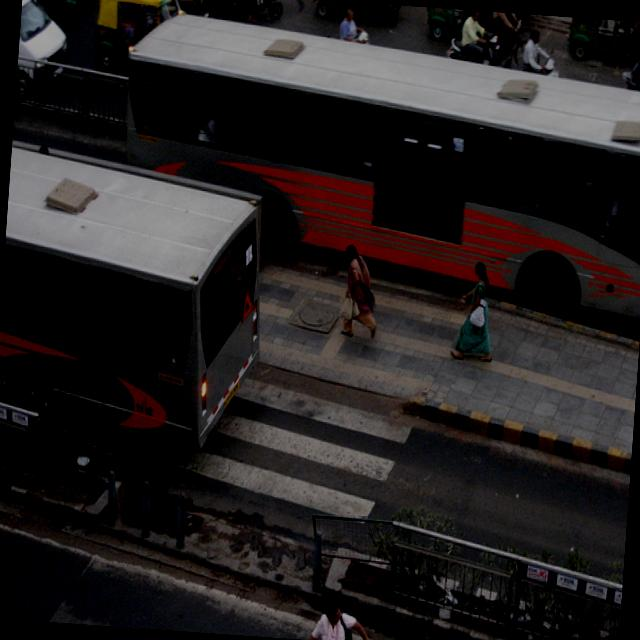Vehicle: (113, 5, 640, 324), (0, 139, 277, 451), (14, 0, 70, 105), (423, 6, 512, 44), (446, 26, 512, 68), (224, 0, 282, 17), (540, 50, 561, 76)
